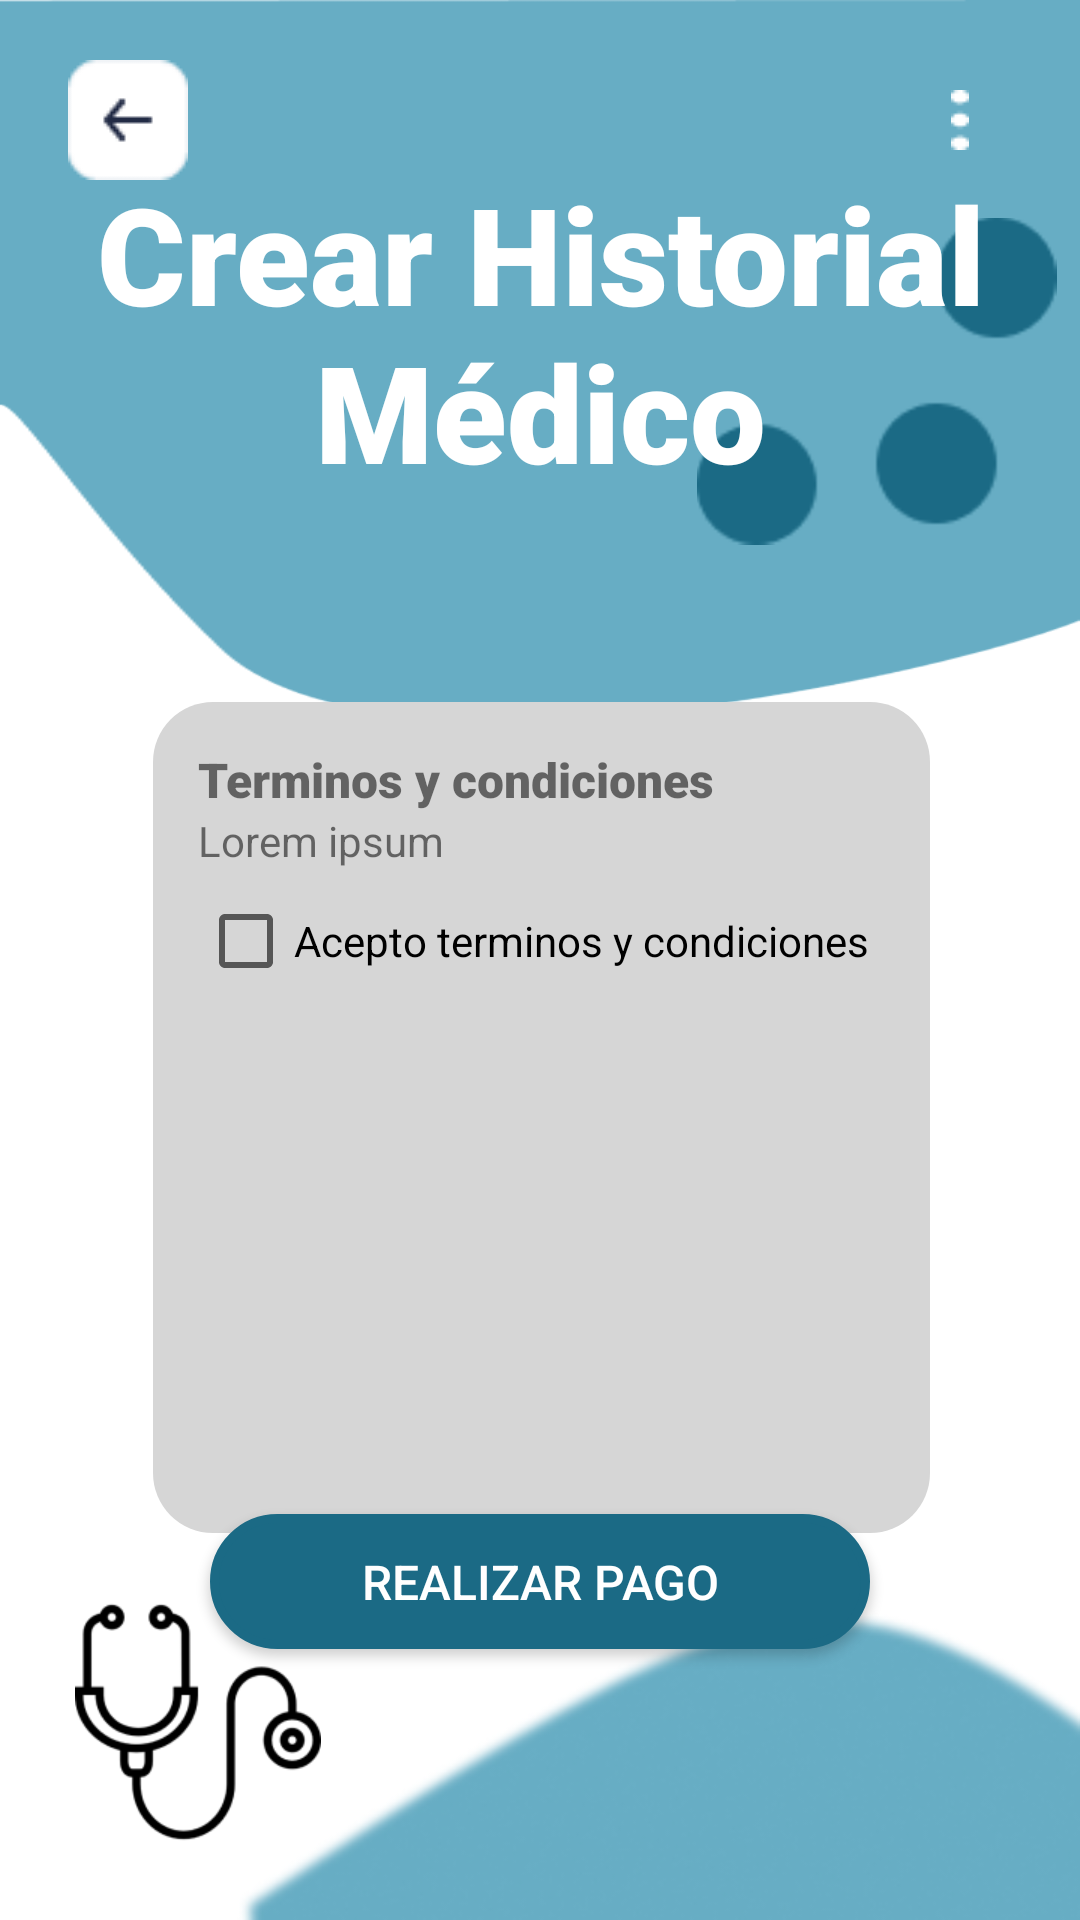

Icons on this 1080w x 1920h Android screen, each with its box as (x1, y1, x2, y2):
back: (68, 60, 188, 180)
estetocopio: (75, 1604, 321, 1840)
